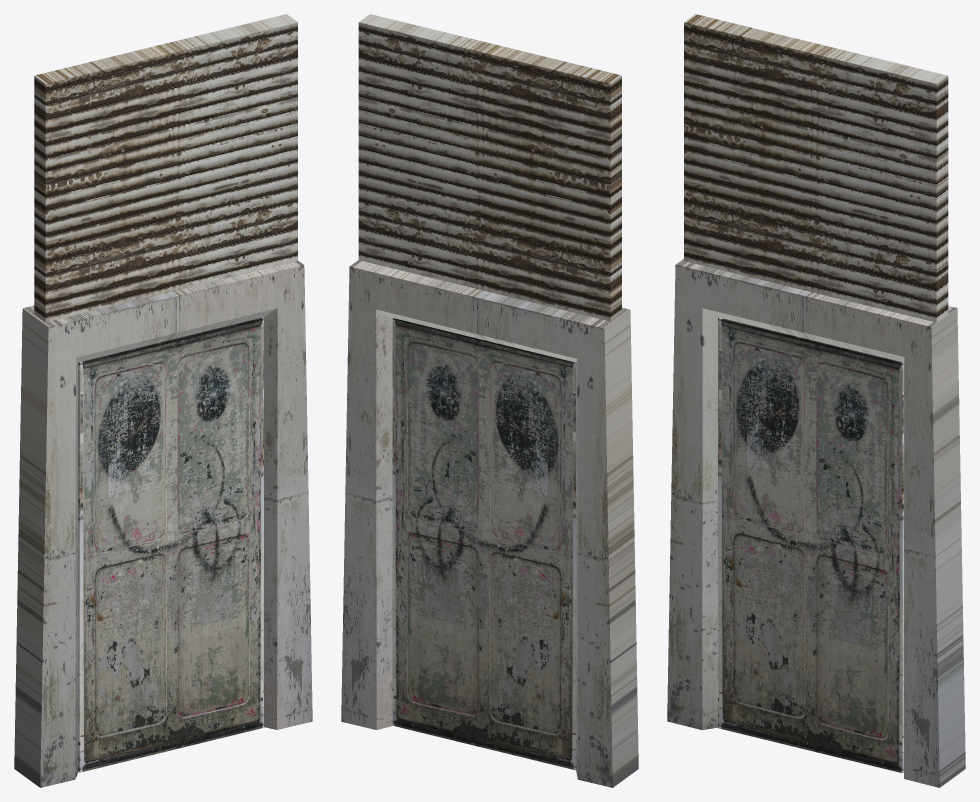
Rendered from door and frame green door 2.obj.
The picture shows the model from 3 angles, left to right: view 1: azimuth 30°, elevation 25°; view 2: azimuth 150°, elevation 25°; view 3: azimuth 330°, elevation 25°; orthographic projection.
Parts seen in each view (by area): view 1: Door, Wall_section, Door_frame; view 2: Door, Wall_section, Door_frame; view 3: Door, Wall_section, Door_frame.
Boxes of the visible parts, x1,y1,x2,y2 form: Door: [78, 317, 263, 772]; Wall_section: [34, 14, 297, 322]; Door_frame: [14, 260, 312, 787]; Door: [392, 318, 576, 770]; Wall_section: [358, 14, 621, 321]; Door_frame: [341, 260, 638, 787]; Door: [718, 317, 903, 773]; Wall_section: [684, 14, 948, 322]; Door_frame: [667, 258, 965, 787].
Size of the model in its own units: 99.26 by 243 by 16.43.
